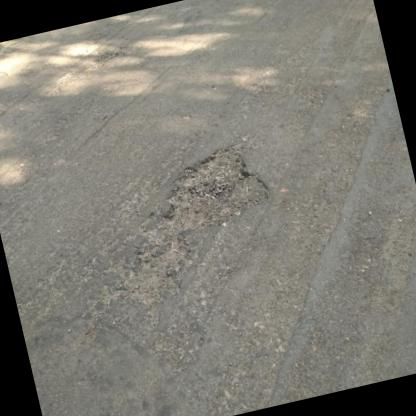pothole: (150, 138, 276, 244), (104, 237, 204, 312), (79, 47, 124, 72)
